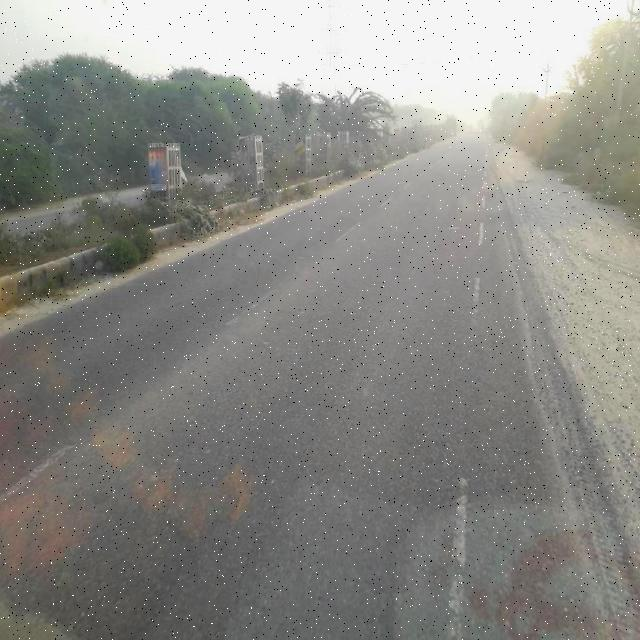D44: (438, 460, 470, 628), (223, 284, 286, 334), (456, 272, 492, 350)
